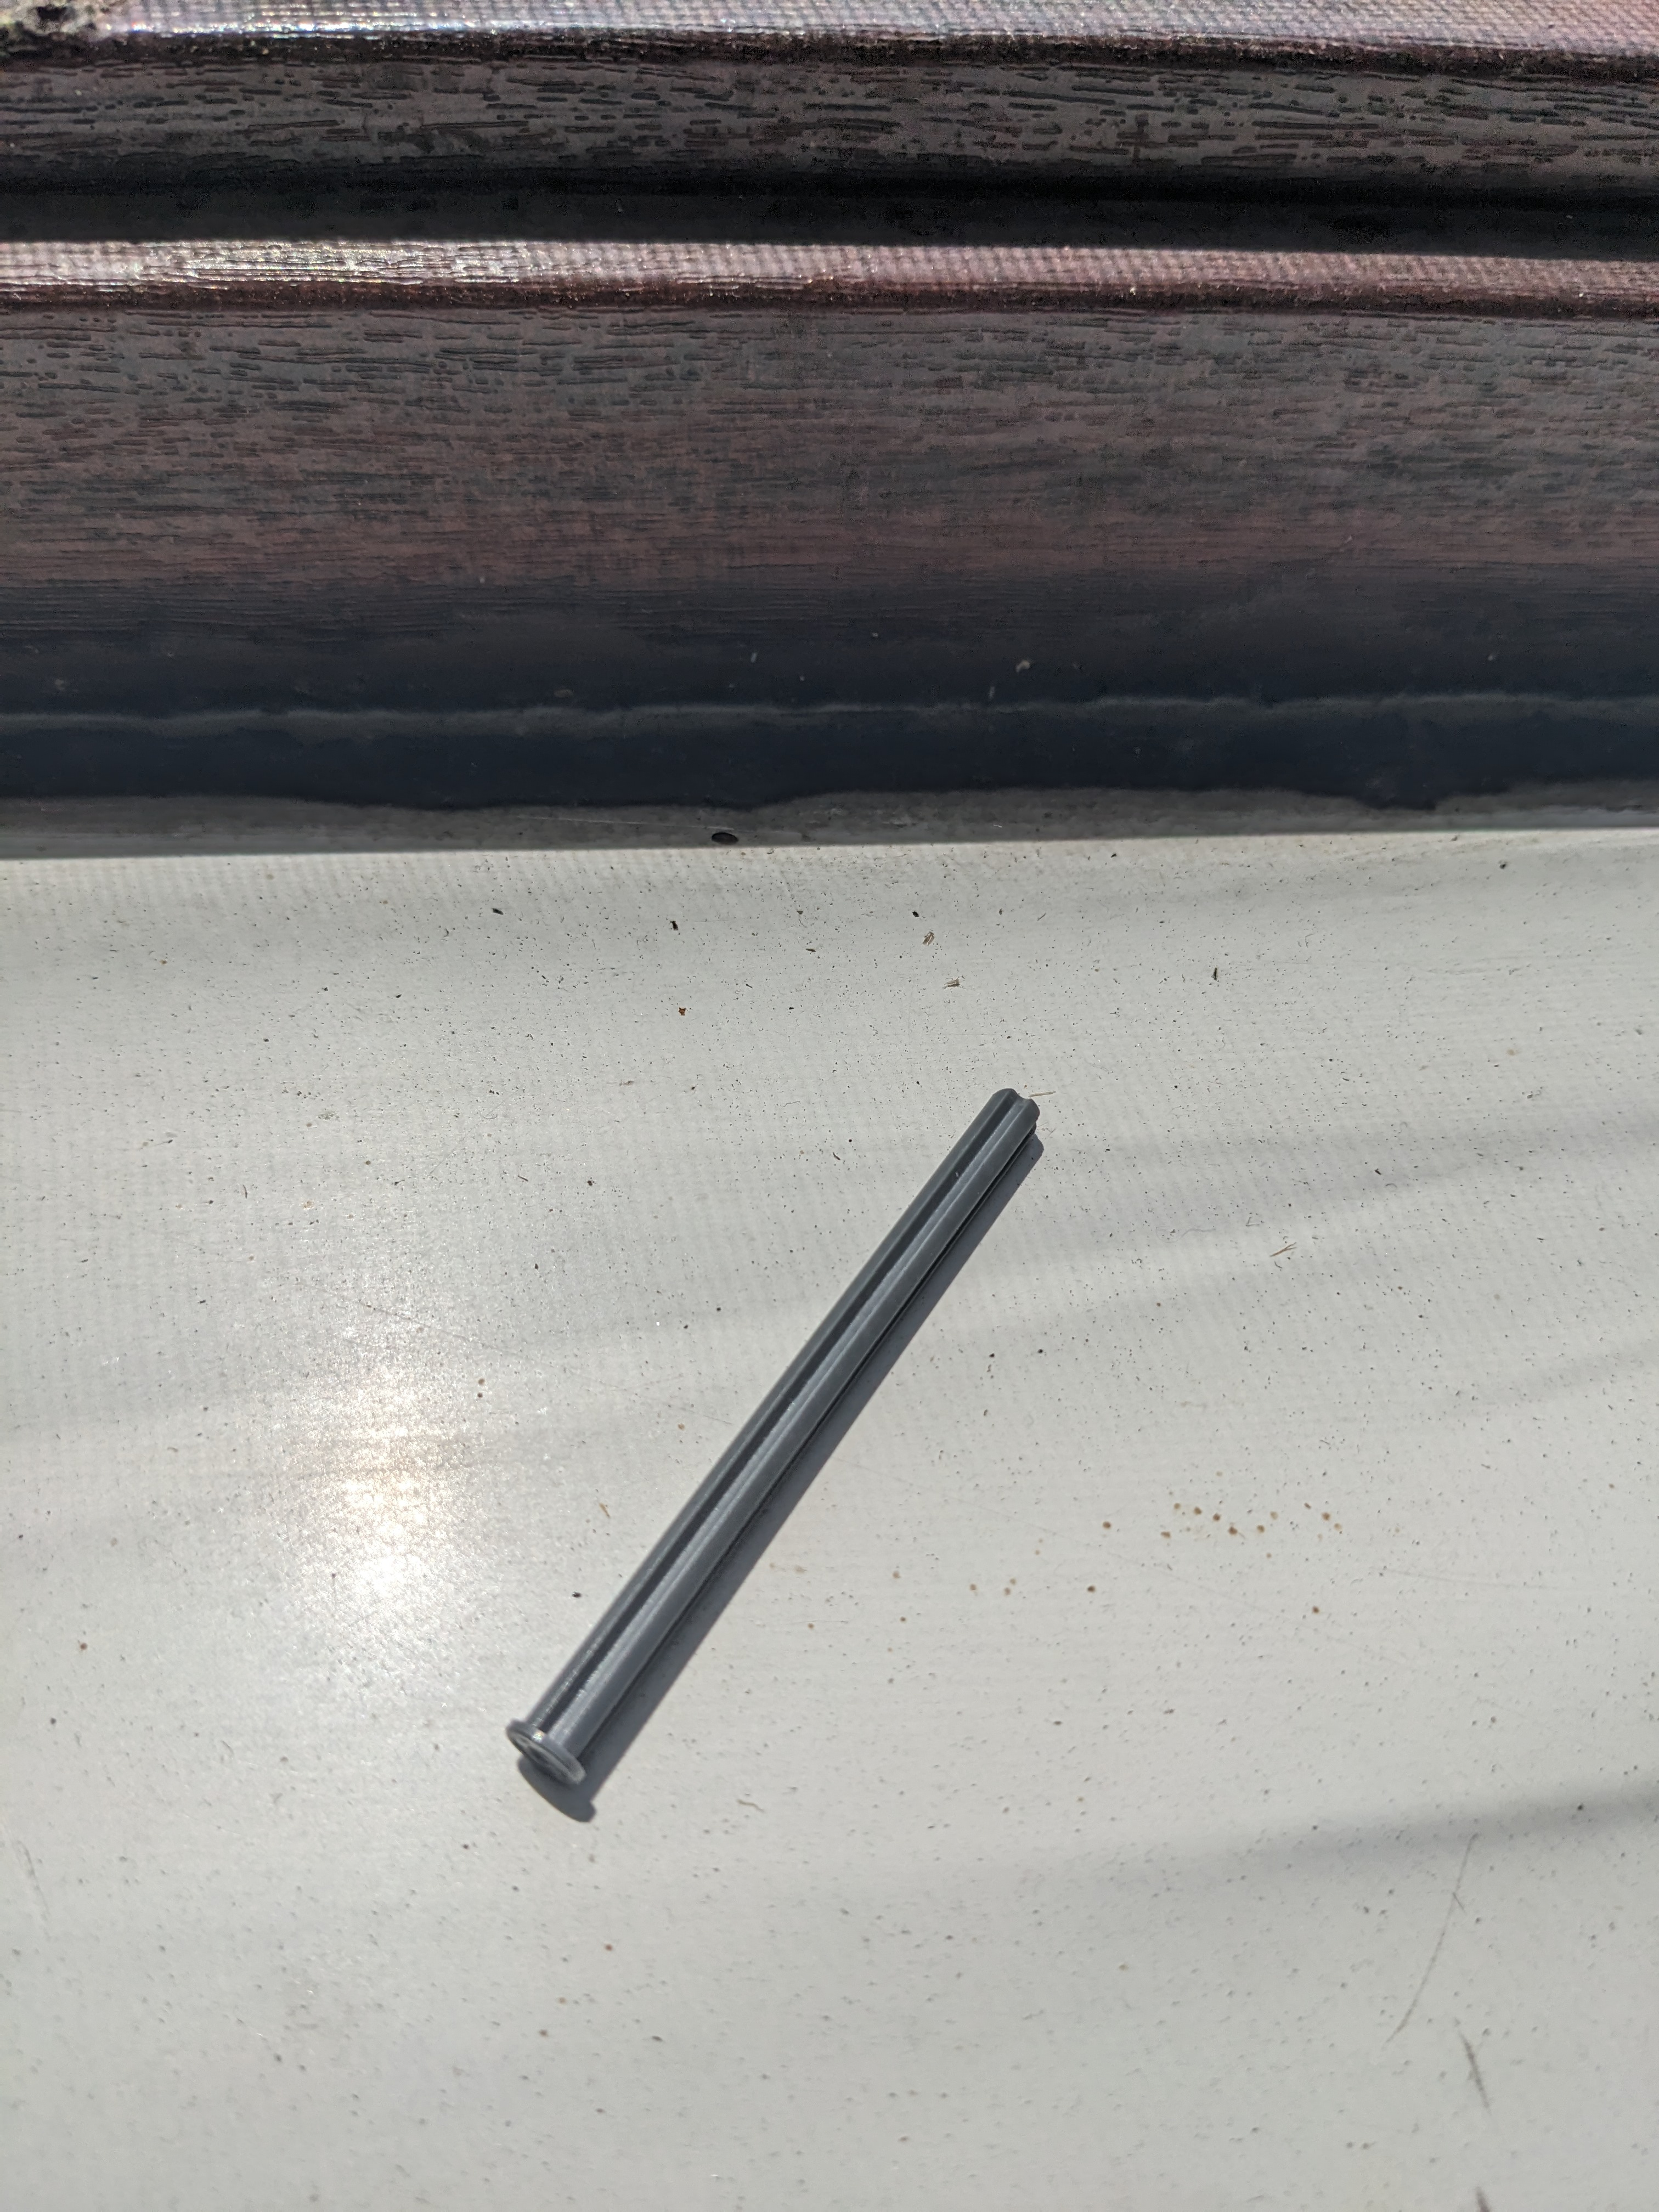Grau_lang: (484, 1049, 1070, 1820)
